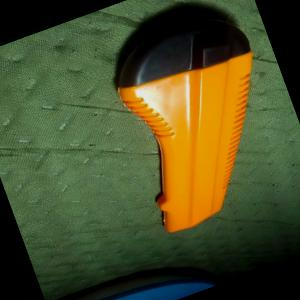estilete: (98, 0, 300, 235)
